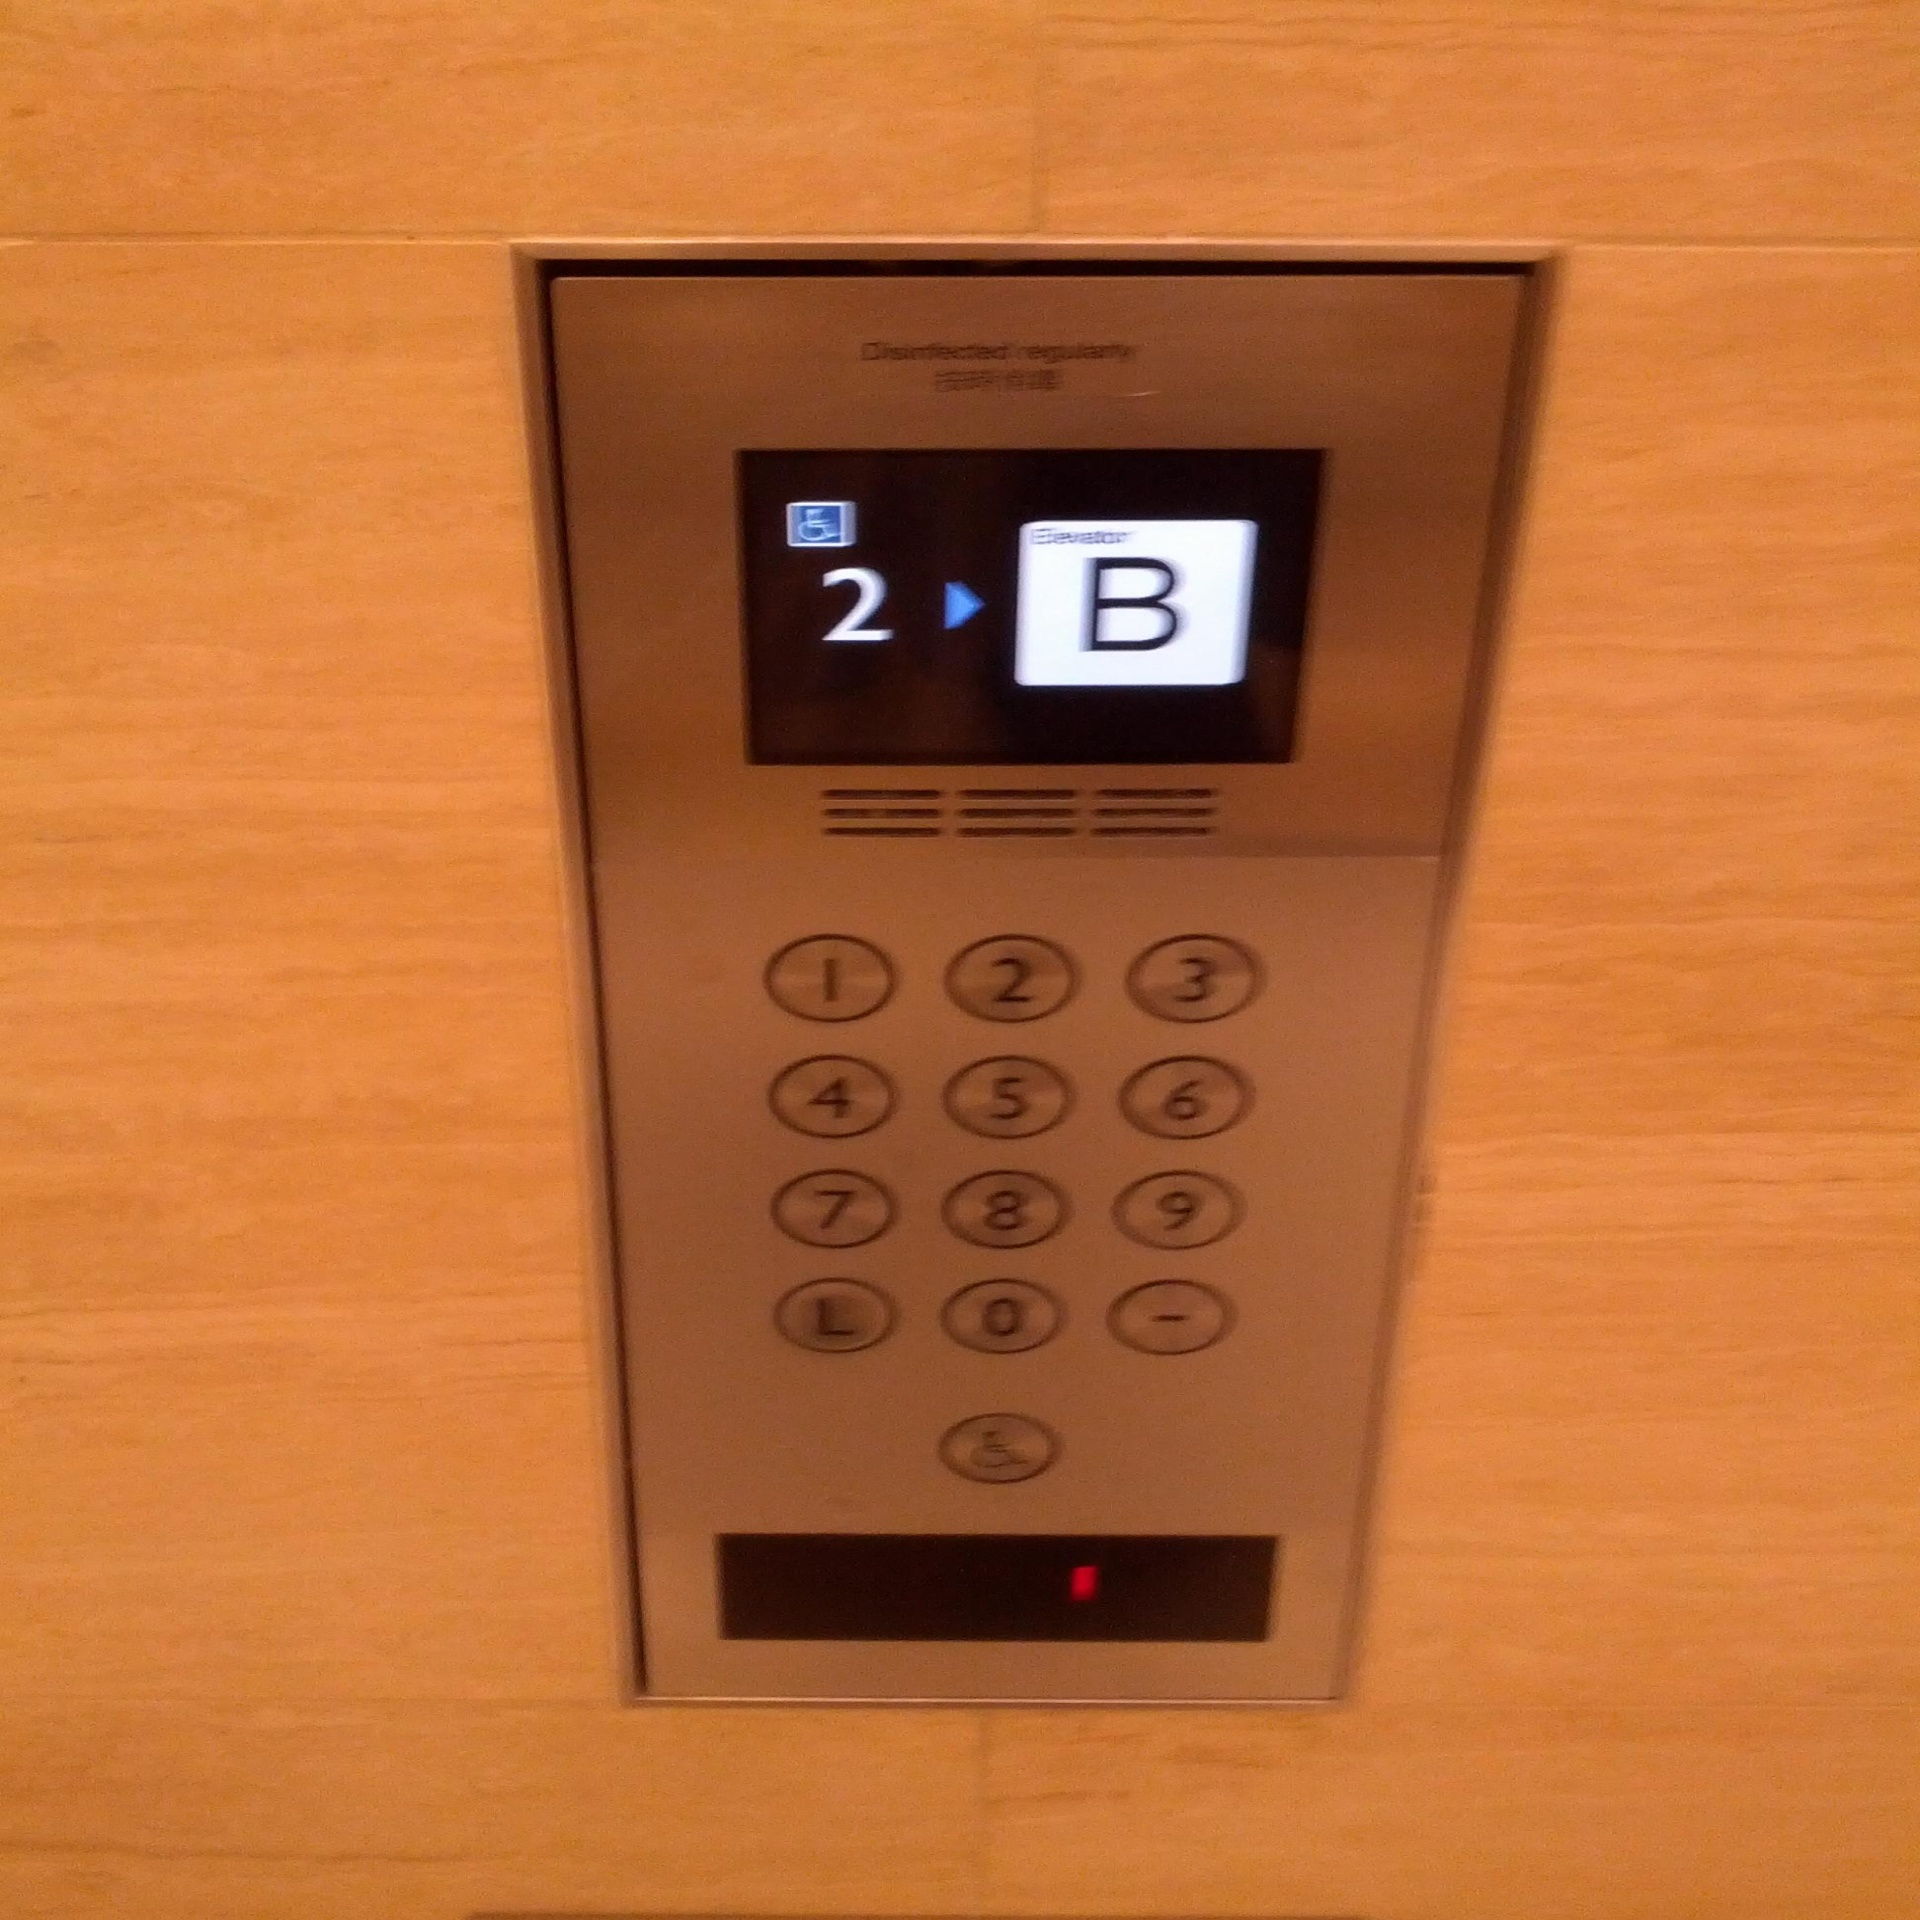-: (1104, 1276, 1238, 1357)
0: (937, 1278, 1067, 1356)
1: (761, 928, 897, 1025)
2: (941, 934, 1078, 1025)
3: (1122, 932, 1261, 1025)
4: (765, 1051, 898, 1143)
5: (939, 1051, 1073, 1143)
6: (1115, 1053, 1252, 1143)
7: (767, 1166, 900, 1252)
8: (941, 1166, 1076, 1252)
9: (1108, 1167, 1248, 1252)
CH: (937, 1412, 1064, 1486)
L: (772, 1276, 900, 1356)
led: (730, 447, 1333, 768), (710, 1531, 1285, 1647)
